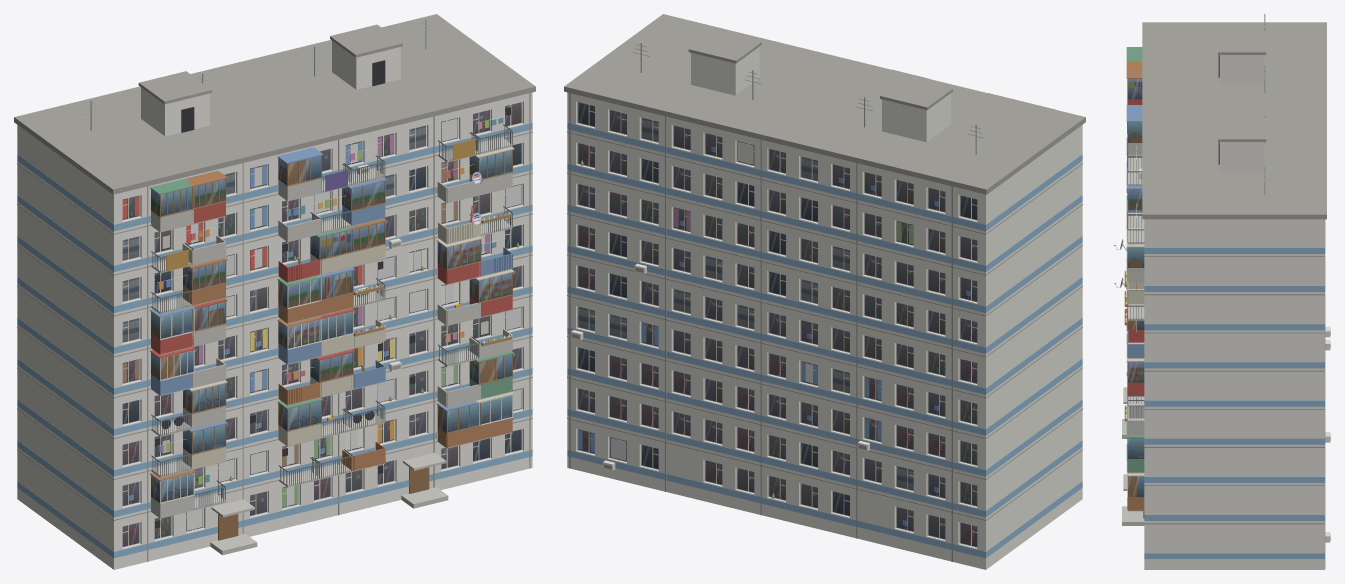
Rendered from panel_ninestory.glb.
3 views of the same model, side by side, from view 1: azimuth 30°, elevation 25°; view 2: azimuth 150°, elevation 25°; view 3: azimuth 270°, elevation 25° (orthographic). The views are drawn at different scales.
Parts seen in each view (by area): view 1: panel_ninestory; view 2: panel_ninestory; view 3: panel_ninestory.
Part boxes in pixels (x1=…): panel_ninestory: x1=14, y1=14, x2=535, y2=569; panel_ninestory: x1=564, y1=14, x2=1085, y2=569; panel_ninestory: x1=1114, y1=14, x2=1330, y2=569.
Bounding box in the file's own units: 30.3 × 28.6 × 14.37.
52 materials, 3 textured.
